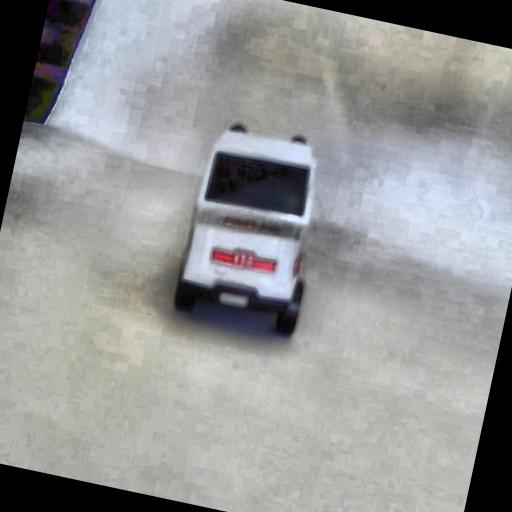ambulance: (169, 116, 336, 337)
